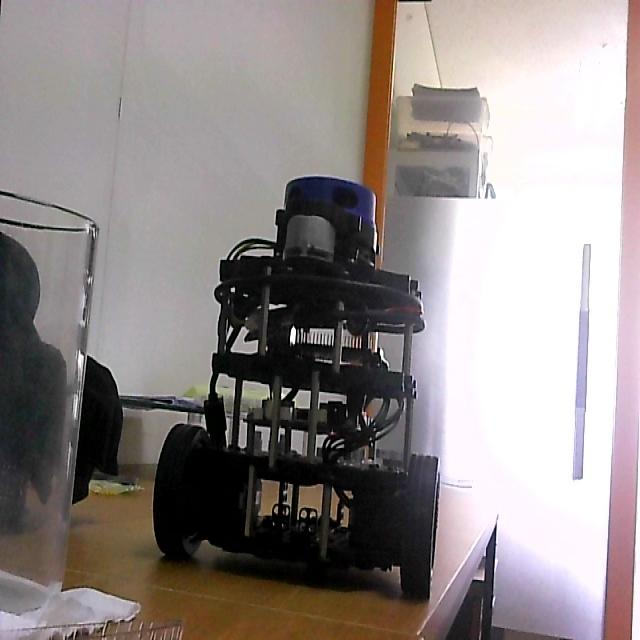turtle: (149, 173, 443, 601)
